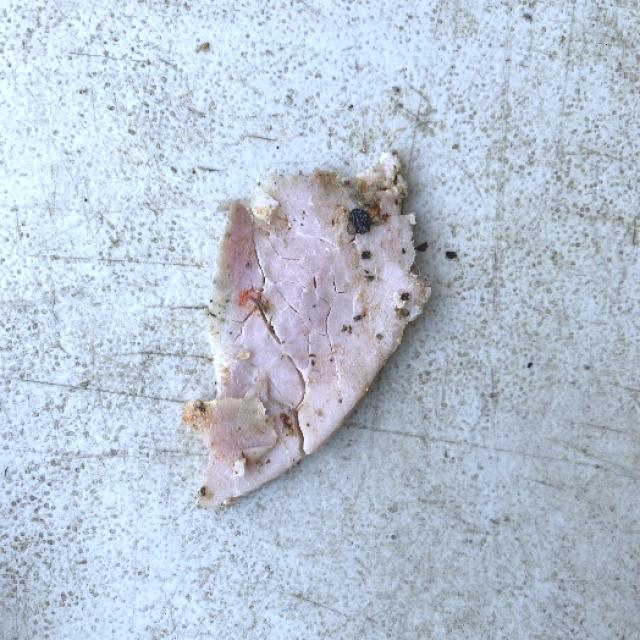organic: (181, 143, 438, 481)
